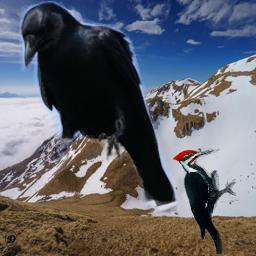Crow: (18, 1, 178, 216)
Woodpecker: (173, 147, 236, 254)
